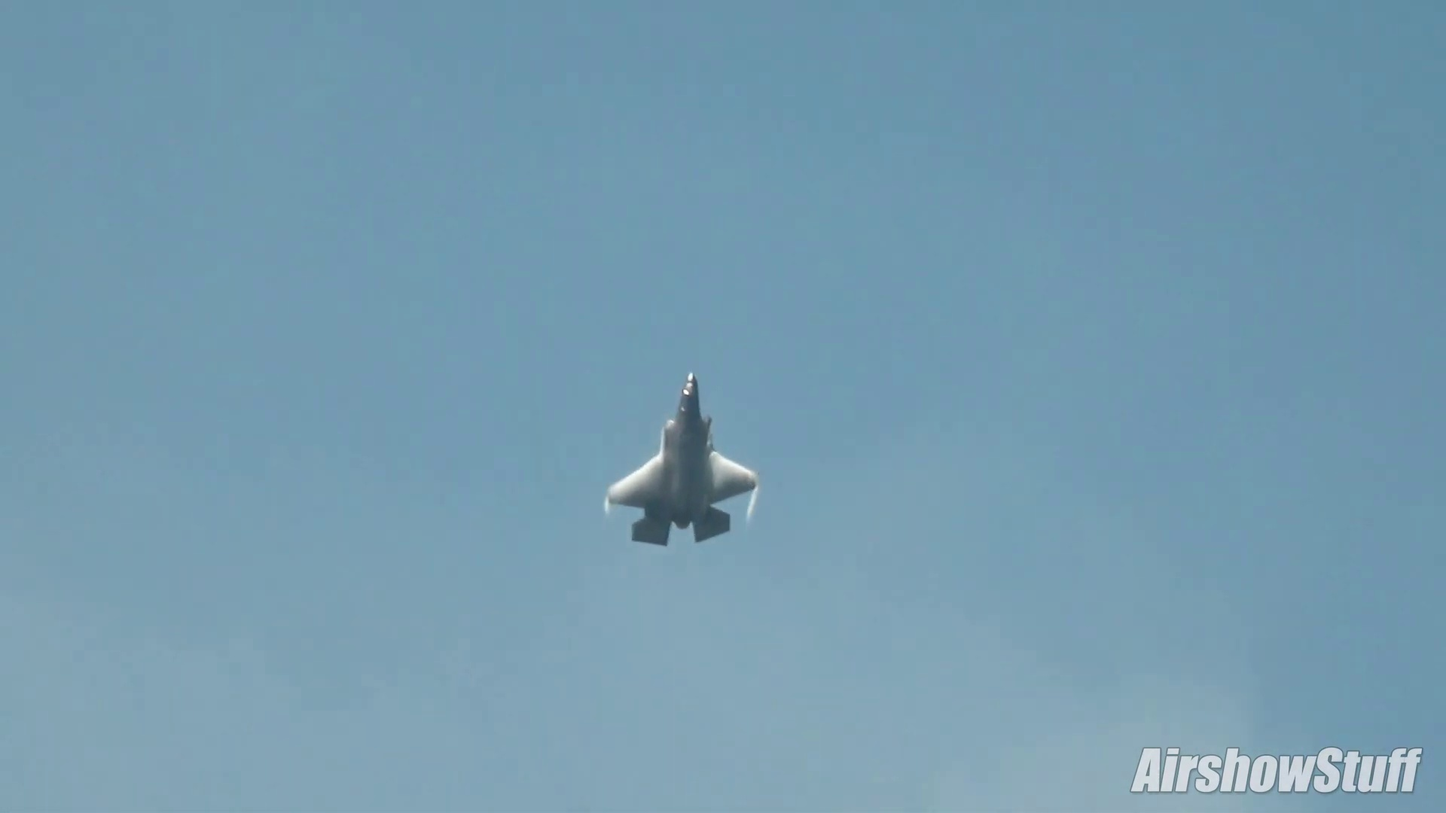F35: (599, 365, 761, 549)
